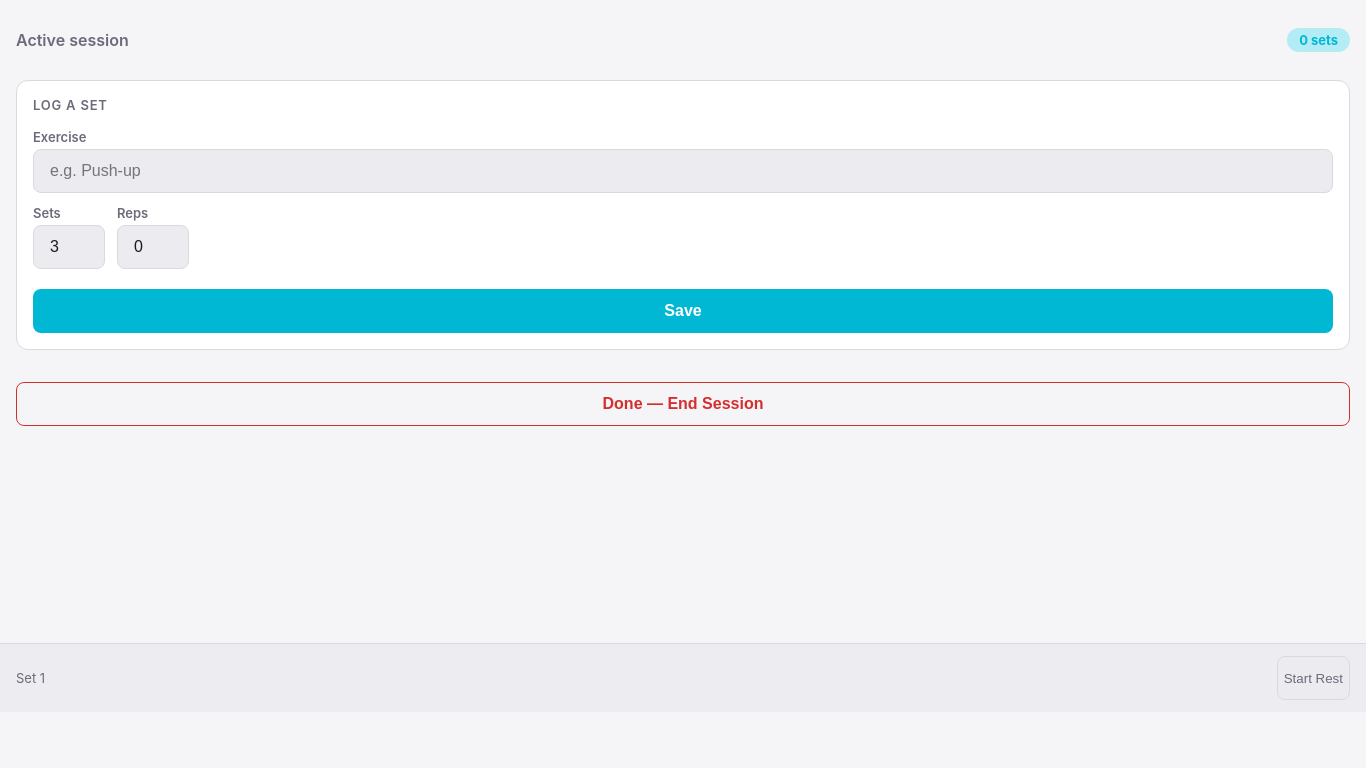
Test case: SessionScreen confirm dialog body copy (mutation-coverage-followup) › confirm dialog shows correct body copy for 0 entr(y|ies)
This screenshot has width=1366, height=768.
Click the button with aria-label "close session" at point(683, 404), box [16, 382, 1350, 426]
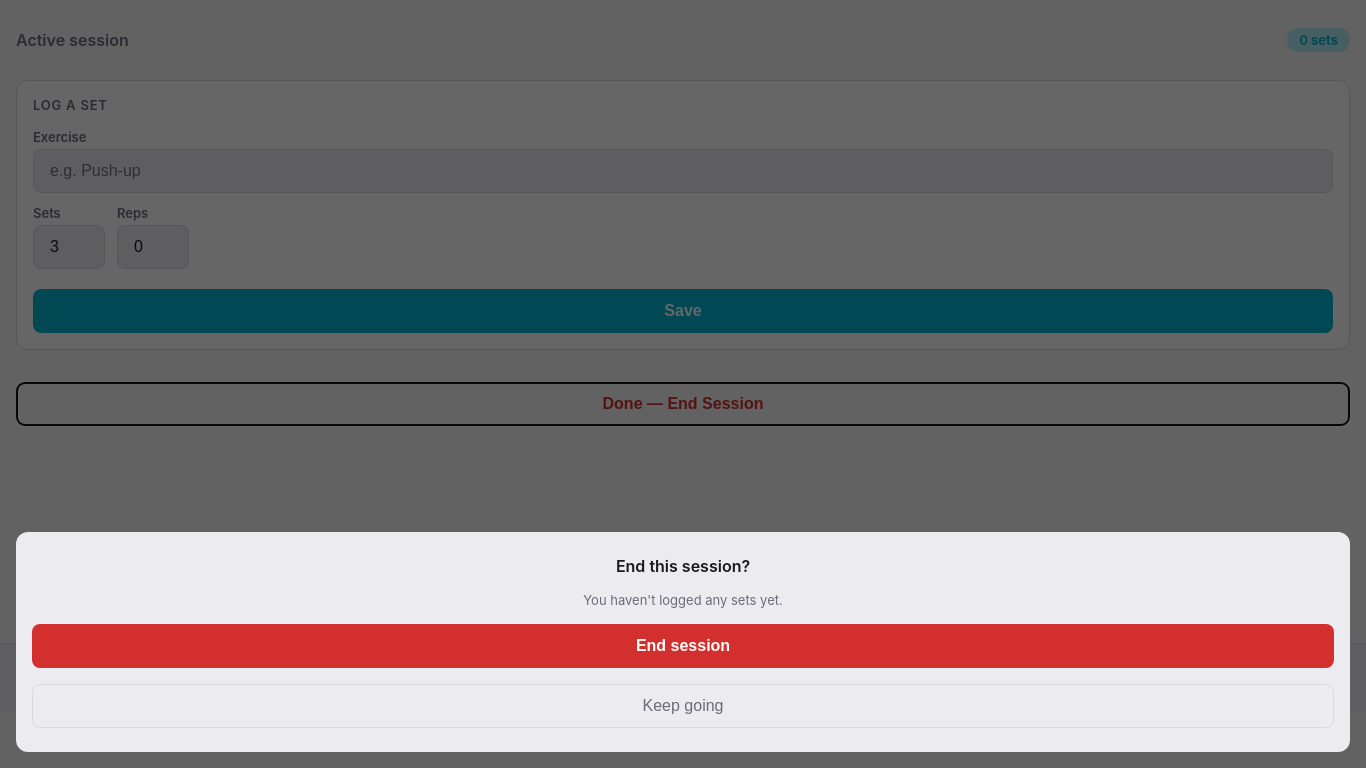
Now the dialog is shown
Now the dialog shows "You haven't logged any sets yet.", box [583, 592, 783, 608]
